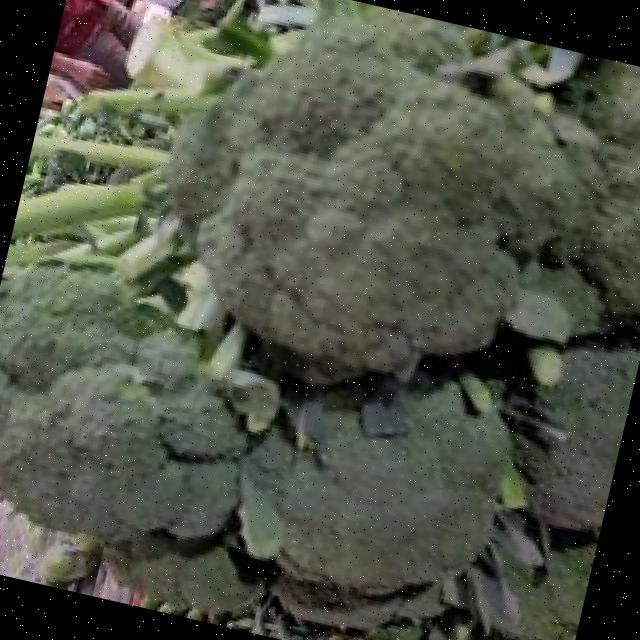Broccoli: (168, 7, 640, 379), (167, 15, 640, 382), (0, 265, 247, 538), (0, 266, 247, 538), (242, 382, 515, 591), (242, 382, 511, 592), (504, 348, 640, 528), (504, 348, 640, 528)
